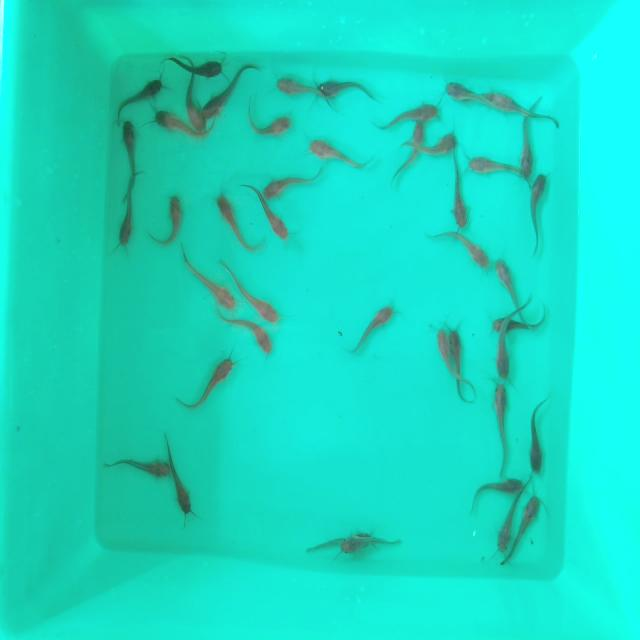lele: (448, 326, 486, 410), (185, 260, 238, 309), (170, 450, 204, 524), (236, 269, 282, 323), (194, 352, 238, 408), (429, 231, 492, 267), (352, 302, 393, 354), (114, 452, 172, 486), (490, 384, 514, 463), (115, 78, 163, 116), (308, 138, 362, 170), (234, 319, 274, 362), (255, 196, 291, 243), (398, 122, 426, 182), (203, 76, 241, 120), (214, 194, 246, 246), (529, 399, 551, 474), (264, 170, 322, 198), (468, 476, 522, 506), (517, 491, 547, 545), (376, 103, 438, 129), (306, 532, 372, 556), (448, 155, 468, 230), (165, 54, 227, 78), (528, 175, 546, 253), (468, 151, 518, 179), (318, 75, 366, 104), (247, 109, 296, 137), (160, 192, 183, 250), (118, 177, 136, 250), (494, 86, 536, 117), (339, 536, 404, 556), (119, 118, 138, 186), (494, 252, 518, 304), (488, 312, 552, 330), (435, 322, 454, 380), (496, 497, 516, 551), (442, 81, 488, 103), (422, 134, 463, 157), (154, 109, 184, 140), (496, 330, 512, 388), (187, 80, 204, 134), (520, 120, 534, 178), (278, 76, 316, 96), (474, 88, 496, 102)
